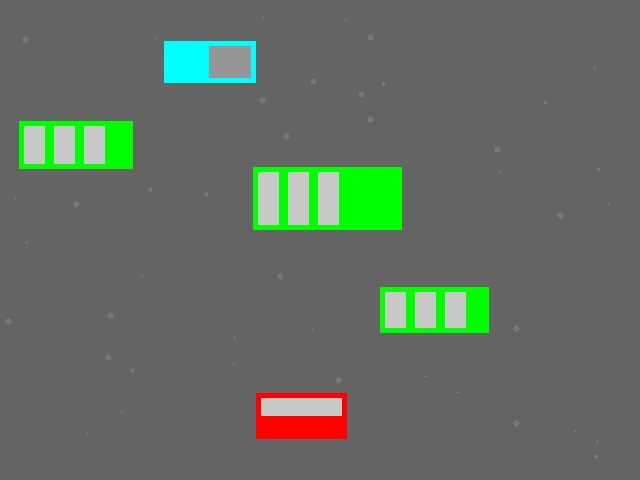bus: (253, 167, 401, 229), (19, 121, 132, 168), (380, 287, 488, 332)
car: (256, 393, 346, 438)
truck: (164, 41, 255, 82)
